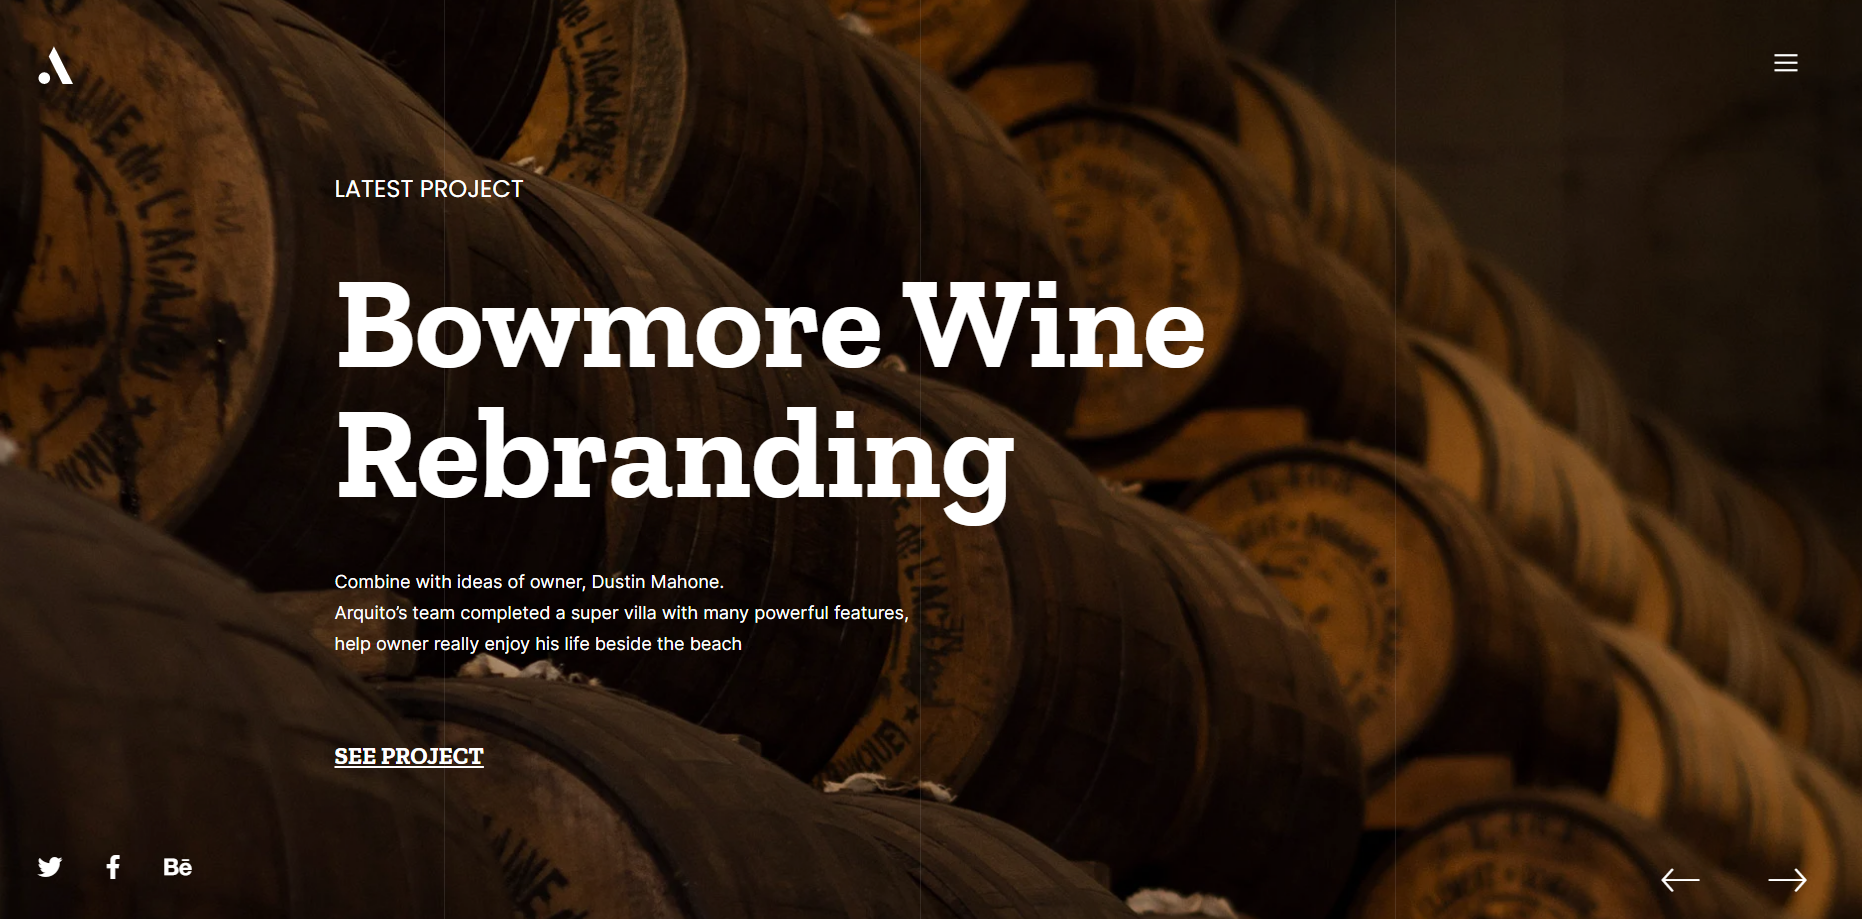menu: (1570, 17, 1858, 904)
